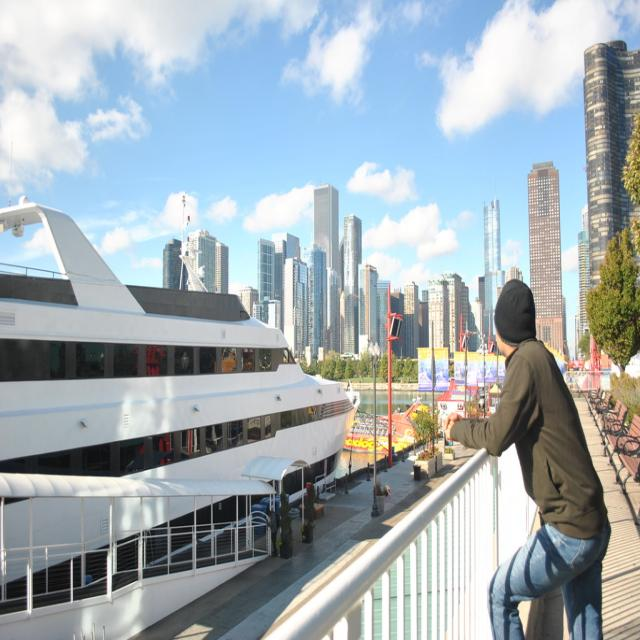Boat: (0, 165, 378, 583)
